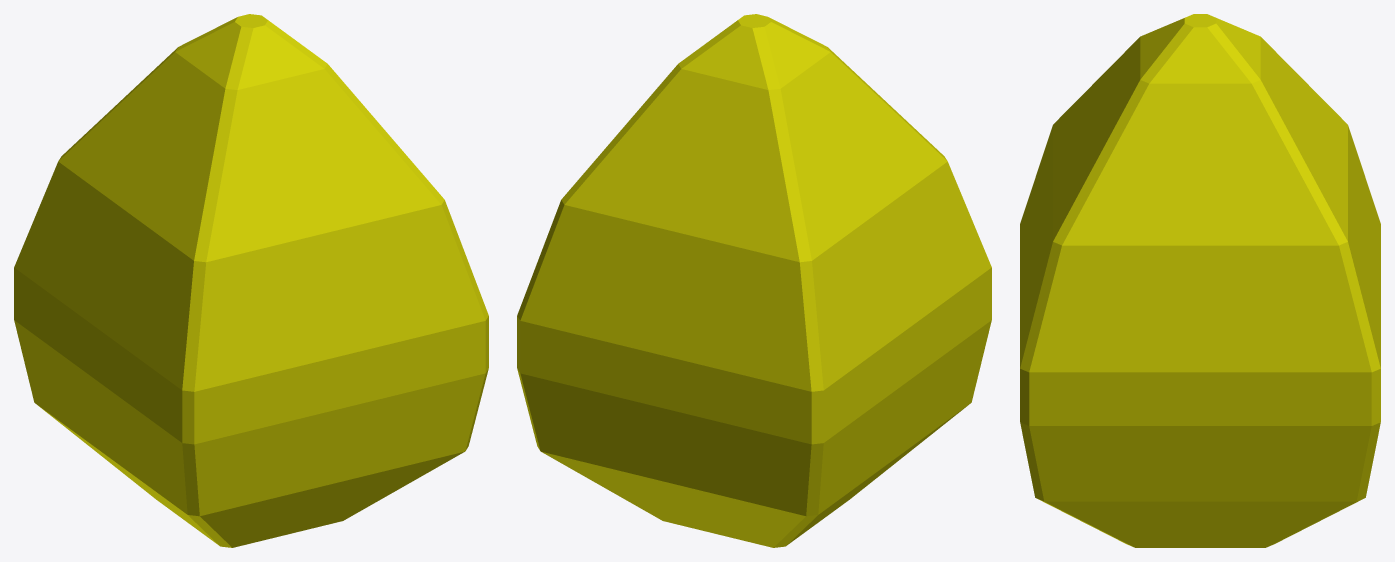
The model's file is RockLevel2.fbx.
The picture shows the model from 3 angles, left to right: view 1: azimuth 30°, elevation 25°; view 2: azimuth 150°, elevation 25°; view 3: azimuth 270°, elevation 25°; orthographic projection.
Parts seen in each view (by area): view 1: Cube; view 2: Cube; view 3: Cube.
Part boxes in pixels (left/top/right/bottom): Cube: left=14, top=14, right=488, bottom=547; Cube: left=517, top=14, right=991, bottom=547; Cube: left=1020, top=14, right=1380, bottom=547.
Bounding box in the file's own units: 218 × 331 × 218.
